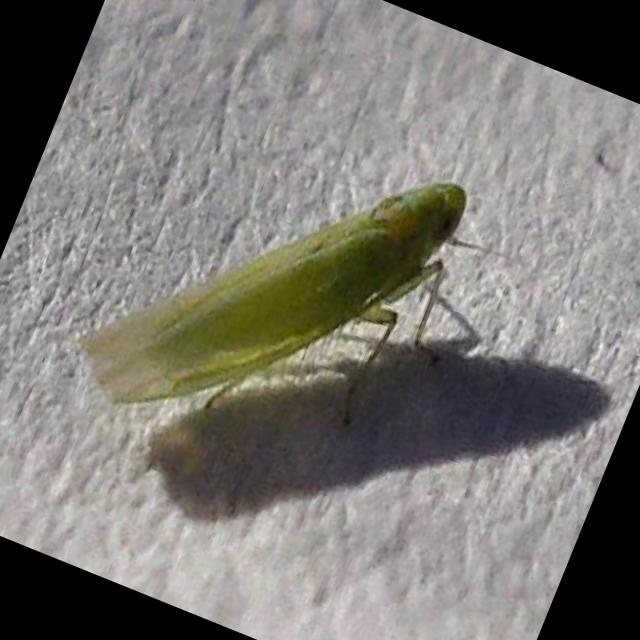green-leafhopper: (78, 78, 480, 500)
